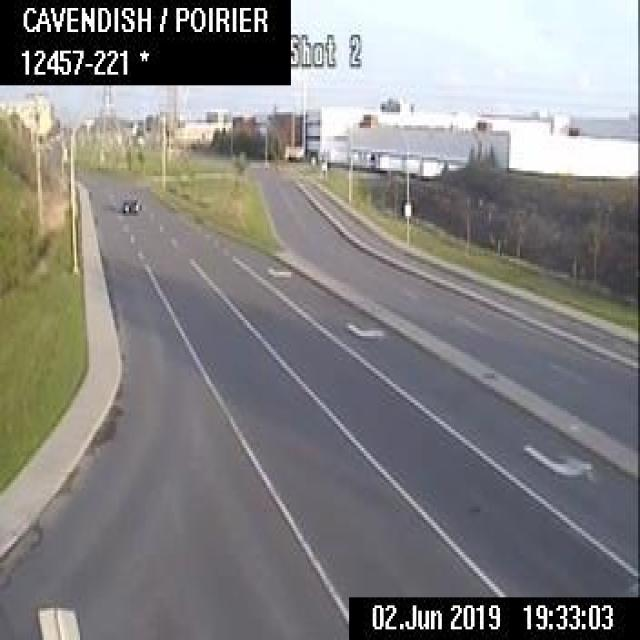vehicle: (122, 194, 140, 211)
